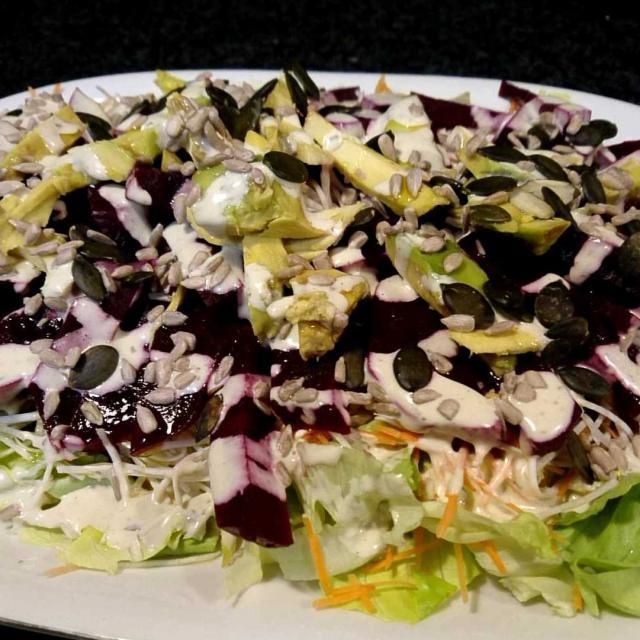mixed-seeds: (21, 86, 608, 416)
mixed-vegetables: (37, 104, 630, 519)
salad: (9, 84, 630, 607), (29, 89, 576, 506)
